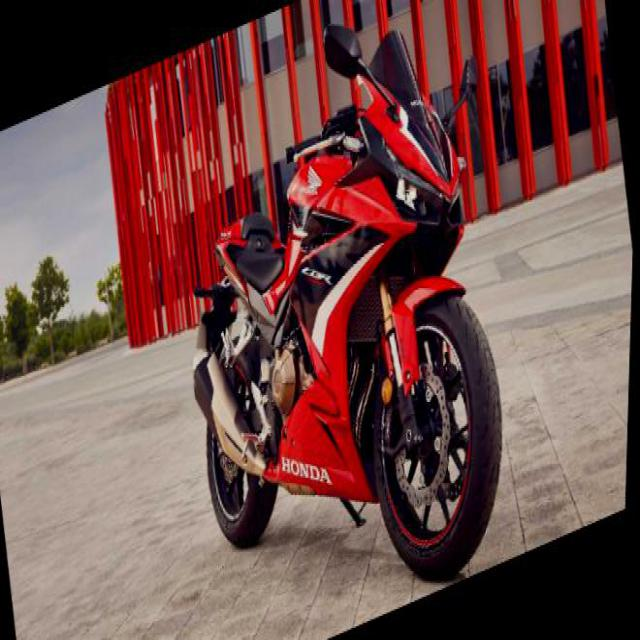CBR500R: (147, 0, 550, 639)
